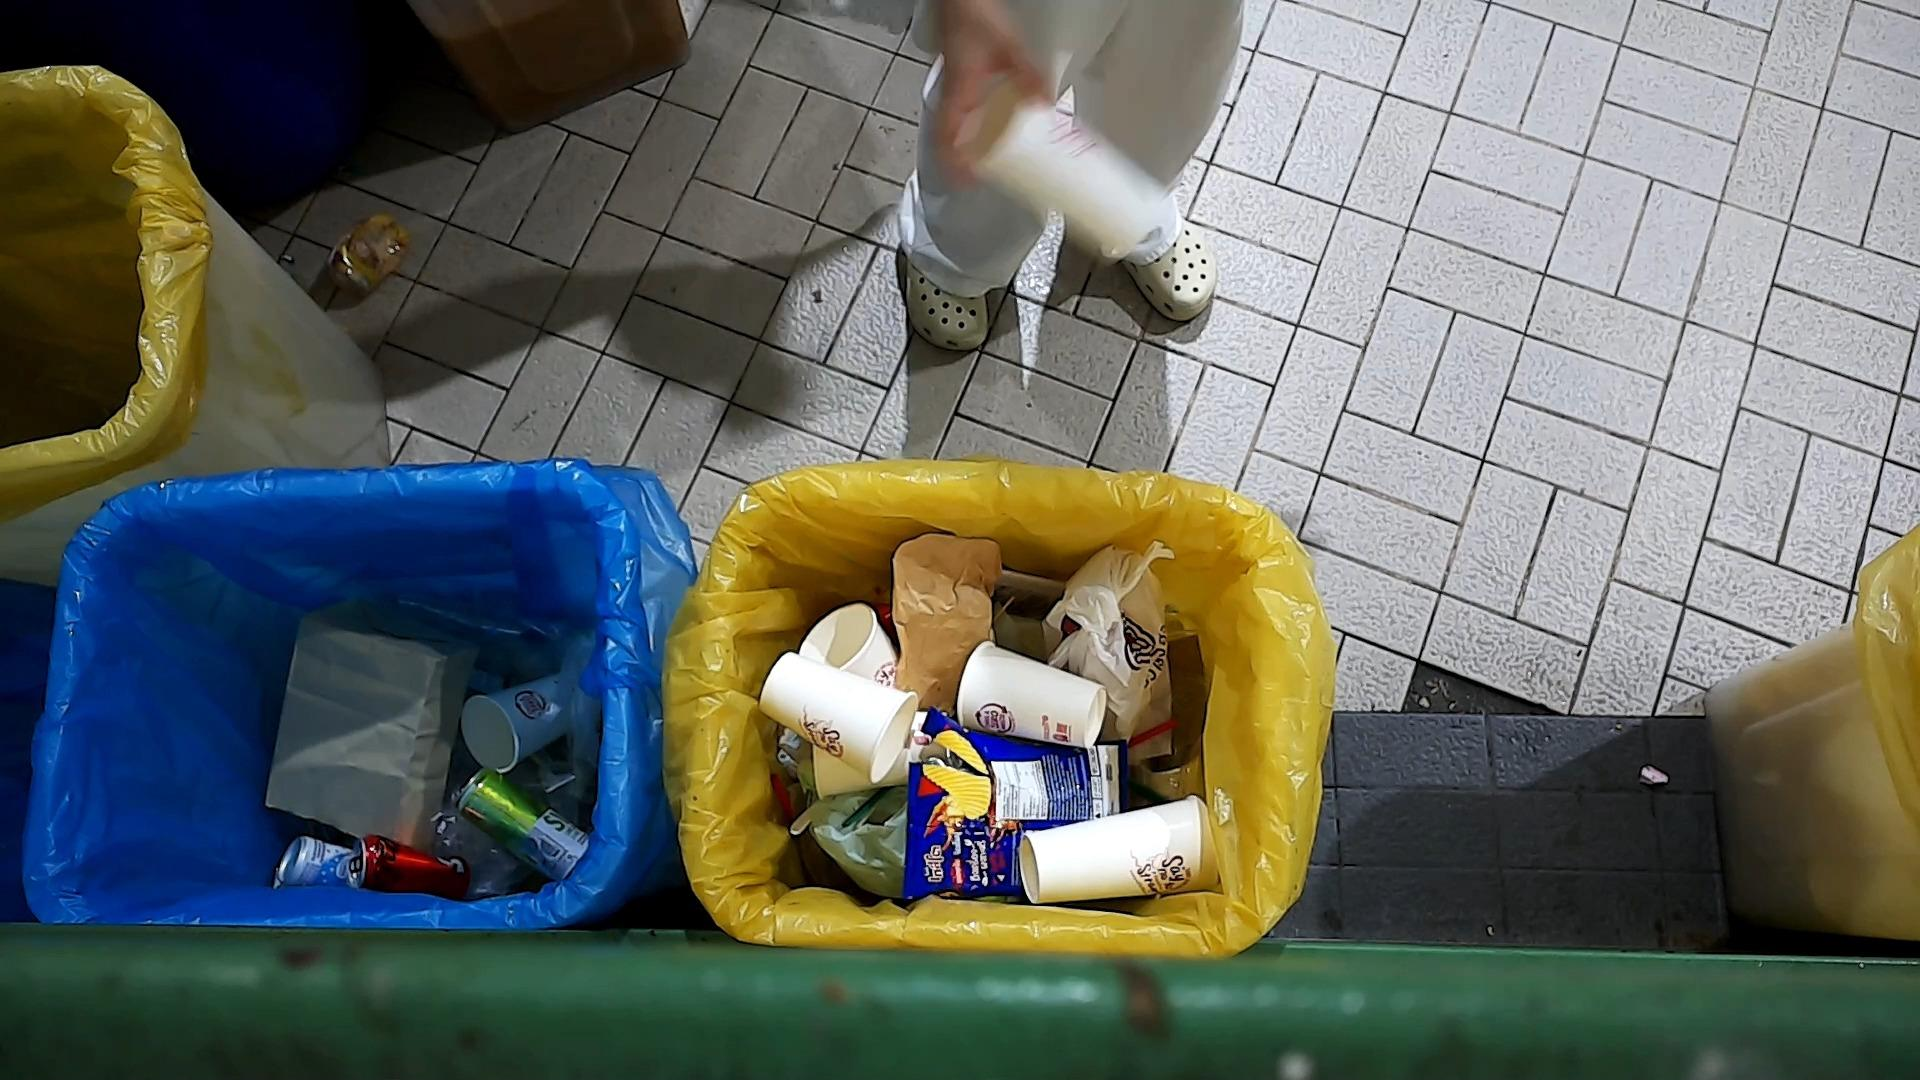can: (454, 762, 593, 885), (345, 829, 479, 902), (272, 829, 355, 890)
filled plastic bag: (1038, 538, 1179, 765)
paper bag: (258, 585, 481, 855), (882, 527, 1004, 707)
snack packaging: (901, 704, 1133, 902)
zero waste cup: (943, 65, 1179, 264), (1014, 791, 1225, 910), (754, 646, 919, 790), (951, 637, 1110, 753), (458, 665, 579, 781), (796, 599, 901, 696)
